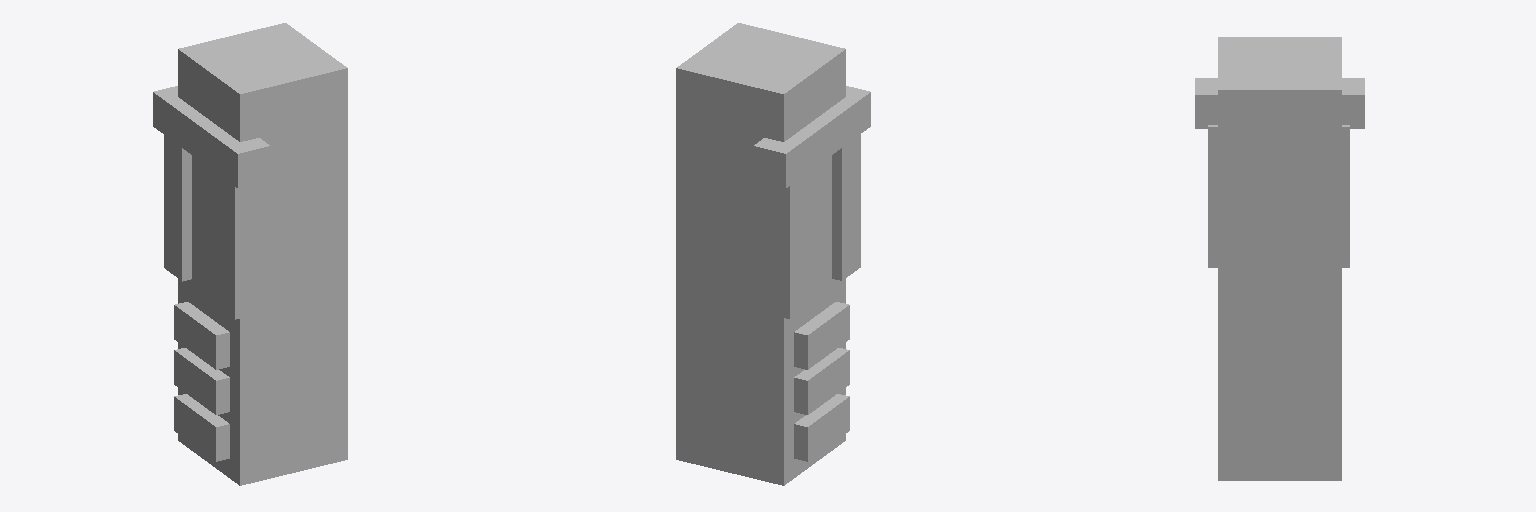
The model's file is TotemPlatform.obj.
The picture shows the model from 3 angles: view 1: azimuth 30°, elevation 25°; view 2: azimuth 150°, elevation 25°; view 3: azimuth 270°, elevation 25°; orthographic projection.
Visible parts, largest first — view 1: Cube_Cube.001, Cube.002_Cube.003, Cube.001_Cube.002, Cube.003_Cube.004, Cube.004_Cube.005, Cube.006_Cube.007, Cube.005_Cube.006; view 2: Cube_Cube.001, Cube.003_Cube.004, Cube.001_Cube.002, Cube.002_Cube.003, Cube.004_Cube.005, Cube.006_Cube.007, Cube.005_Cube.006; view 3: Cube_Cube.001, Cube.001_Cube.002, Cube.002_Cube.003, Cube.003_Cube.004.
Part boxes in pixels (x1,y1,x2,y2): Cube_Cube.001: (178, 23, 347, 485); Cube.002_Cube.003: (216, 173, 267, 319); Cube.001_Cube.002: (153, 86, 270, 187); Cube.003_Cube.004: (164, 135, 191, 281); Cube.004_Cube.005: (174, 302, 229, 369); Cube.006_Cube.007: (174, 394, 229, 461); Cube.005_Cube.006: (174, 348, 229, 414); Cube_Cube.001: (676, 23, 845, 485); Cube.003_Cube.004: (757, 172, 808, 318); Cube.001_Cube.002: (753, 86, 870, 187); Cube.002_Cube.003: (832, 134, 860, 280); Cube.004_Cube.005: (794, 302, 849, 369); Cube.006_Cube.007: (794, 394, 849, 461); Cube.005_Cube.006: (794, 348, 849, 414); Cube_Cube.001: (1218, 37, 1341, 480); Cube.001_Cube.002: (1195, 78, 1364, 128); Cube.002_Cube.003: (1208, 125, 1217, 267); Cube.003_Cube.004: (1342, 125, 1349, 267).
Size of the model in its own units: 16.85 by 51.91 by 20.4.